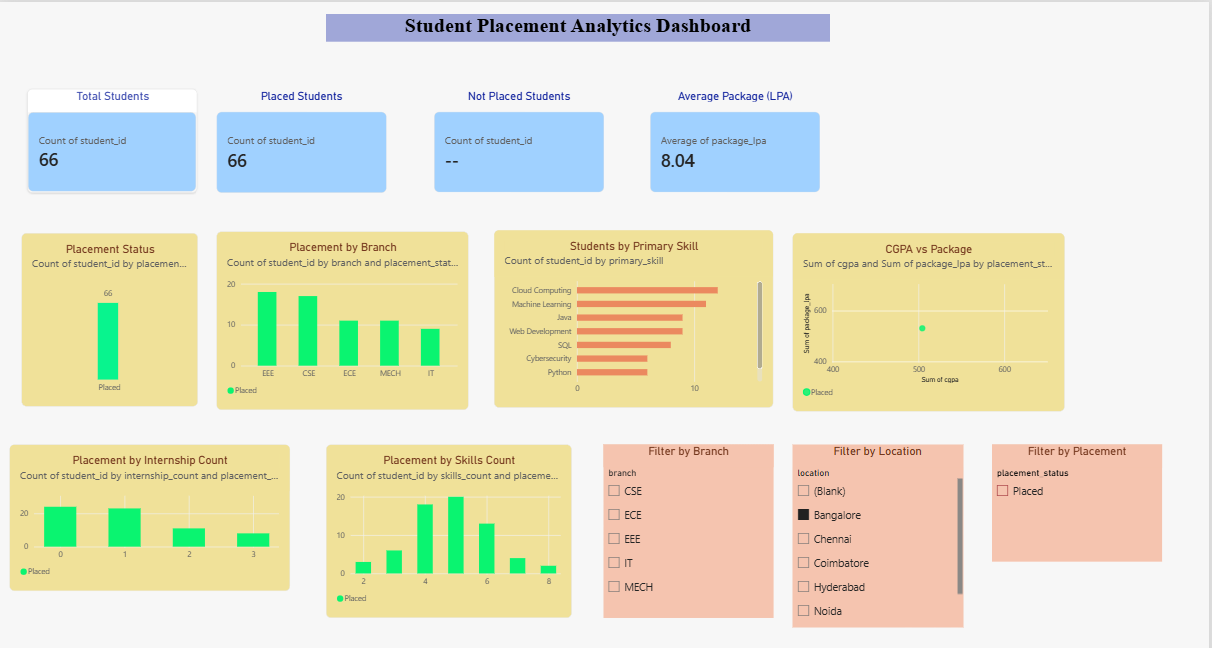

Layout of this report page (visuals, bound fields, positions):
{"tool":"powerbi","page":{"name":"Placement Overview","canvas":[1920,1080],"ordinal":0},"visuals":[{"type":"textbox","box":[518,20,800,44],"z":0},{"type":"cardVisual","title":"Total Students","fields":{"Data":["Count(placement_cleaned_data.student_id)"]},"box":[45,137.5,269.6,164.6],"z":1000},{"type":"cardVisual","title":"Placed Students","fields":{"Data":["CountNonNull(placement_cleaned_data.student_id)"]},"box":[345,137.5,270,165],"z":2000},{"type":"cardVisual","title":"Not Placed Students","fields":{"Data":["CountNonNull(placement_cleaned_data.student_id)"]},"box":[690,137.5,270,164],"z":3000},{"type":"cardVisual","title":"Average Package (LPA)","fields":{"Data":["Avg(placement_cleaned_data.package_lpa)"]},"box":[1032.5,137.5,270,164],"z":4000},{"type":"clusteredColumnChart","title":"Placement Status","fields":{"Category":["placement_cleaned_data.placement_status"],"Y":["CountNonNull(placement_cleaned_data.student_id)"]},"box":[35,367.5,280,275],"z":5000},{"type":"clusteredColumnChart","title":"Placement by Branch","fields":{"Category":["placement_cleaned_data.branch"],"Series":["placement_cleaned_data.placement_status"],"Y":["CountNonNull(placement_cleaned_data.student_id)"]},"box":[345,365,400,283.3],"z":6000},{"type":"clusteredBarChart","title":"Students by Primary Skill","fields":{"Category":["placement_cleaned_data.primary_skill"],"Y":["CountNonNull(placement_cleaned_data.student_id)"]},"box":[785,362.5,443.3,281.7],"z":7000},{"type":"scatterChart","title":"CGPA vs Package","fields":{"Series":["placement_cleaned_data.placement_status"],"X":["Sum(placement_cleaned_data.cgpa)"],"Y":["Sum(placement_cleaned_data.package_lpa)"]},"box":[1260,367.5,431.7,283.3],"z":8000},{"type":"slicer","title":"Filter by Branch","fields":{"Values":["placement_cleaned_data.branch"]},"box":[960,702.5,270,275],"z":9000},{"type":"slicer","title":"Filter by Placement","fields":{"Values":["placement_cleaned_data.placement_status"]},"box":[1575,702.5,270,186],"z":10000},{"type":"slicer","title":"Filter by Location","fields":{"Values":["placement_cleaned_data.location"]},"box":[1260,702.5,270,290],"z":11000},{"type":"clusteredColumnChart","title":"Placement by Internship Count","fields":{"Category":["placement_cleaned_data.internship_count"],"Series":["placement_cleaned_data.placement_status"],"Y":["CountNonNull(placement_cleaned_data.student_id)"]},"box":[17.5,702.5,445,232.5],"z":12000},{"type":"clusteredColumnChart","title":"Placement by Skills Count","fields":{"Category":["placement_cleaned_data.skills_count"],"Series":["placement_cleaned_data.placement_status"],"Y":["CountNonNull(placement_cleaned_data.student_id)"]},"box":[520,702.5,390,275],"z":12001}]}

Visuals, with their boxes on the page's 1920x1080 design canvas (x1, y1, x2, y2). These are canvas units, not pixel positions in the 1212x648 screenshot, which may show the page scaled, cropped or inside an application window:
textbox: <box>518,20,1318,64</box>
"Total Students" cardVisual: <box>45,138,315,302</box>
"Placed Students" cardVisual: <box>345,138,615,302</box>
"Not Placed Students" cardVisual: <box>690,138,960,302</box>
"Average Package (LPA)" cardVisual: <box>1032,138,1302,302</box>
"Placement Status" clusteredColumnChart: <box>35,368,315,642</box>
"Placement by Branch" clusteredColumnChart: <box>345,365,745,648</box>
"Students by Primary Skill" clusteredBarChart: <box>785,362,1228,644</box>
"CGPA vs Package" scatterChart: <box>1260,368,1692,651</box>
"Filter by Branch" slicer: <box>960,702,1230,978</box>
"Filter by Placement" slicer: <box>1575,702,1845,888</box>
"Filter by Location" slicer: <box>1260,702,1530,992</box>
"Placement by Internship Count" clusteredColumnChart: <box>18,702,462,935</box>
"Placement by Skills Count" clusteredColumnChart: <box>520,702,910,978</box>
